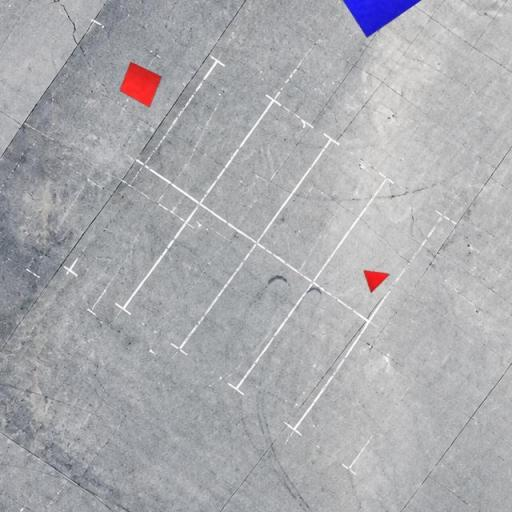BLUE_SQUARE: (327, 0, 426, 38)
RED_SQUARE: (120, 62, 162, 108)
